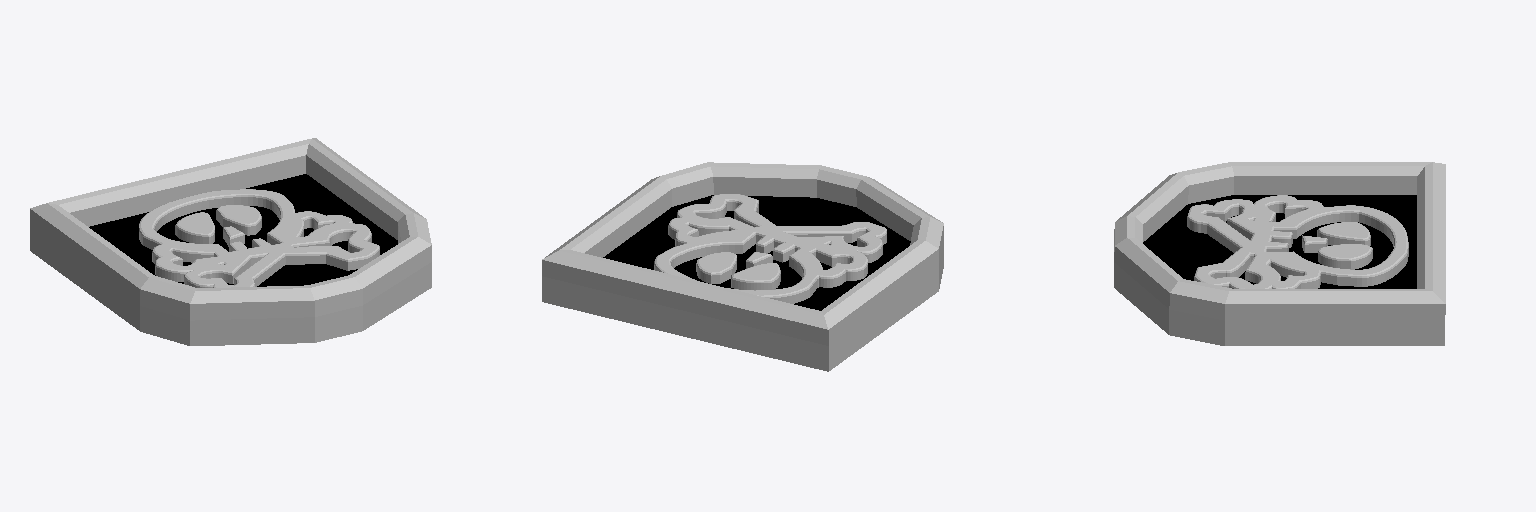
File: instakill.obj
3 renders of one model, left to right at view 1: azimuth 30°, elevation 25°; view 2: azimuth 150°, elevation 25°; view 3: azimuth 270°, elevation 25°, orthographic.
Visible parts, largest first — view 1: instakill_Text; view 2: instakill_Text; view 3: instakill_Text.
Part boxes in pixels (bbox=[...]): instakill_Text: bbox=[30, 138, 431, 345]; instakill_Text: bbox=[542, 162, 943, 371]; instakill_Text: bbox=[1114, 162, 1445, 345].
Bounding box in the file's own units: 1.67 × 0.3247 × 1.67.